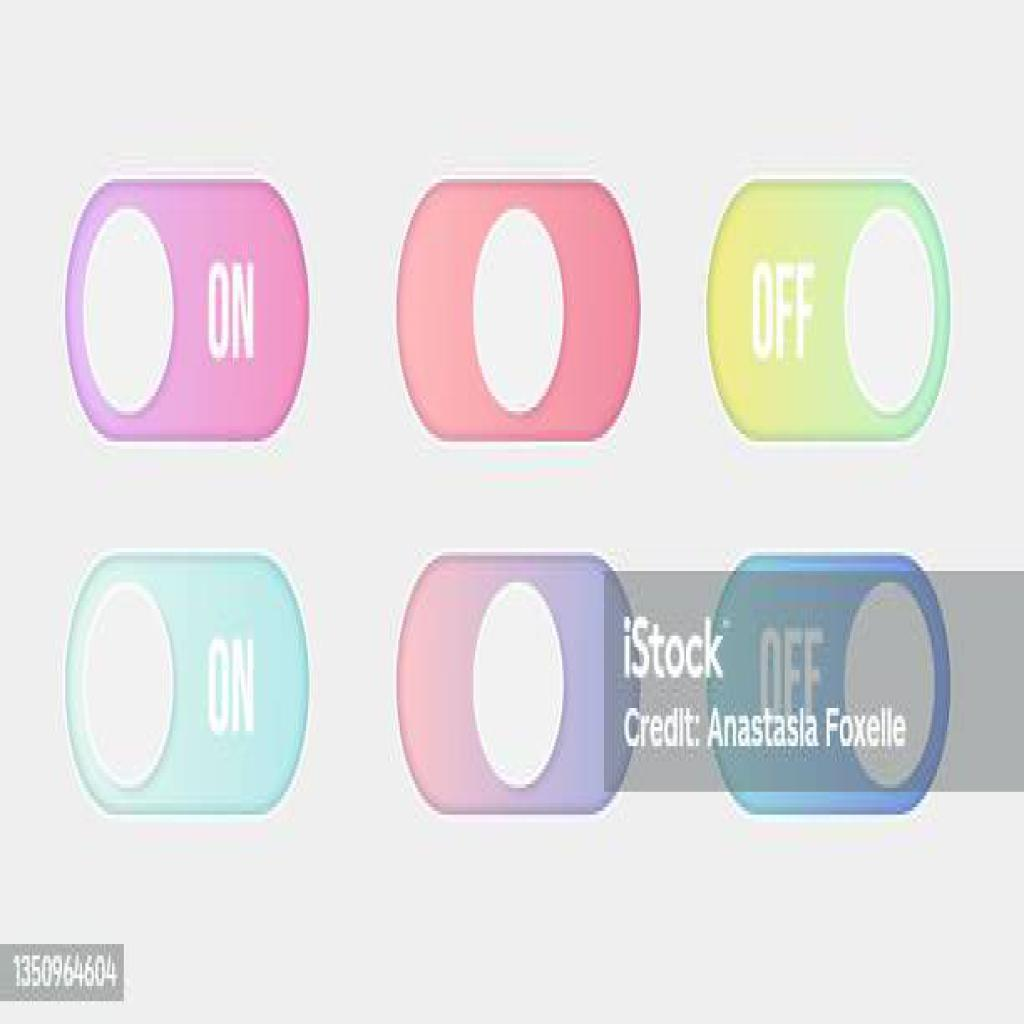switch: (705, 178, 955, 446), (63, 553, 312, 820), (65, 179, 313, 443)
